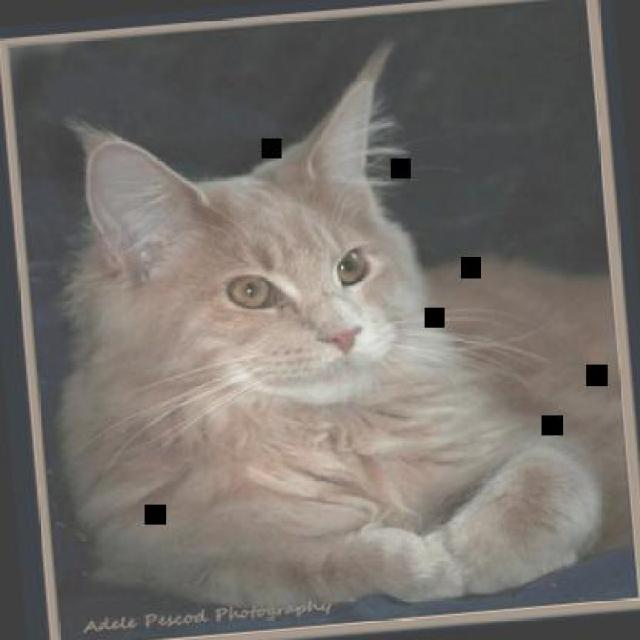cat: (33, 35, 636, 636)
